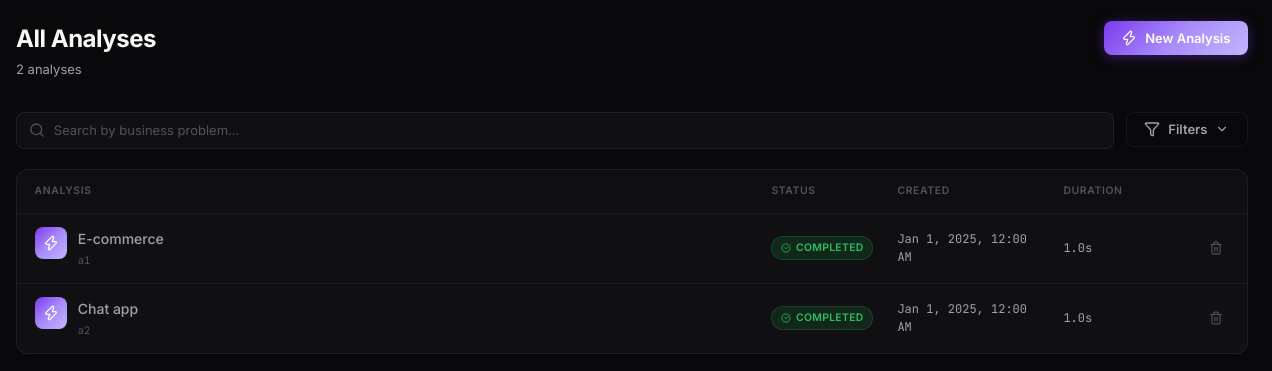
Test case: AnalysesListPage › search input works
Expected: the text "E-commerce" is shown, top-left (78, 227), bottom-right (164, 251)
Type "chat" into the field with placeholder "Search by business problem...".
click(565, 130); type("chat")  # box top-left (16, 112), bottom-right (1114, 149)
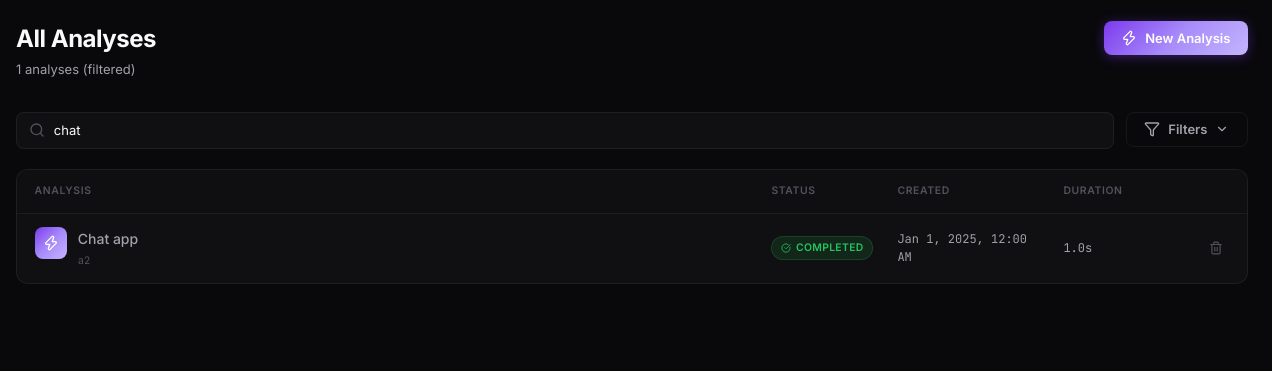
Expected: the text "Chat app" is shown, top-left (78, 227), bottom-right (138, 251)
Result: the text "E-commerce" is gone
